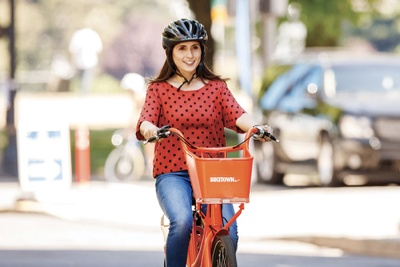helmet: (162, 17, 210, 79)
